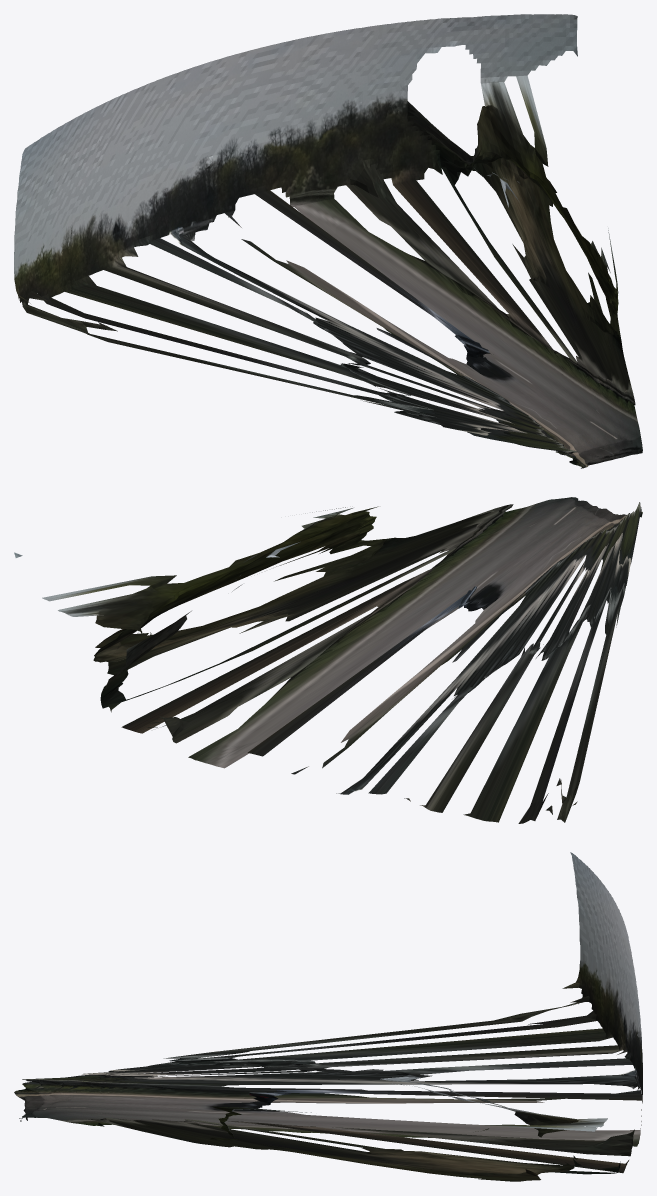
3 views of the same model, one above another, from view 1: azimuth 30°, elevation 25°; view 2: azimuth 150°, elevation 25°; view 3: azimuth 270°, elevation 25° (orthographic). The views are drawn at different scales.
Parts seen in each view (by area): view 1: defaultobject; view 2: defaultobject; view 3: defaultobject.
Part boxes in pixels (x1=…): defaultobject: x1=14, y1=14, x2=642, y2=468; defaultobject: x1=14, y1=497, x2=642, y2=823; defaultobject: x1=14, y1=852, x2=642, y2=1181.
Bounding box in the file's own units: 41 × 12.87 × 44.81.
1 material, 1 textured.
